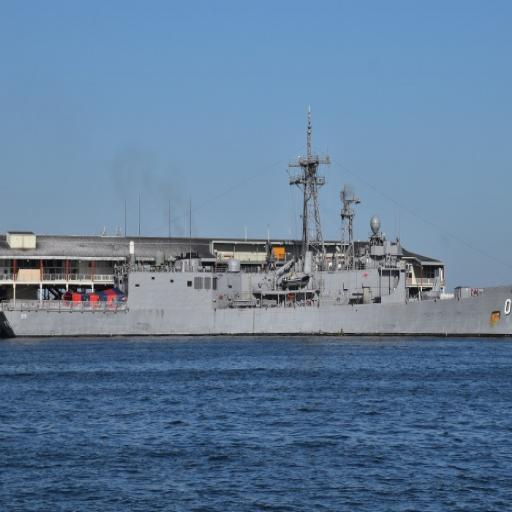Fragata: (1, 101, 512, 343)
